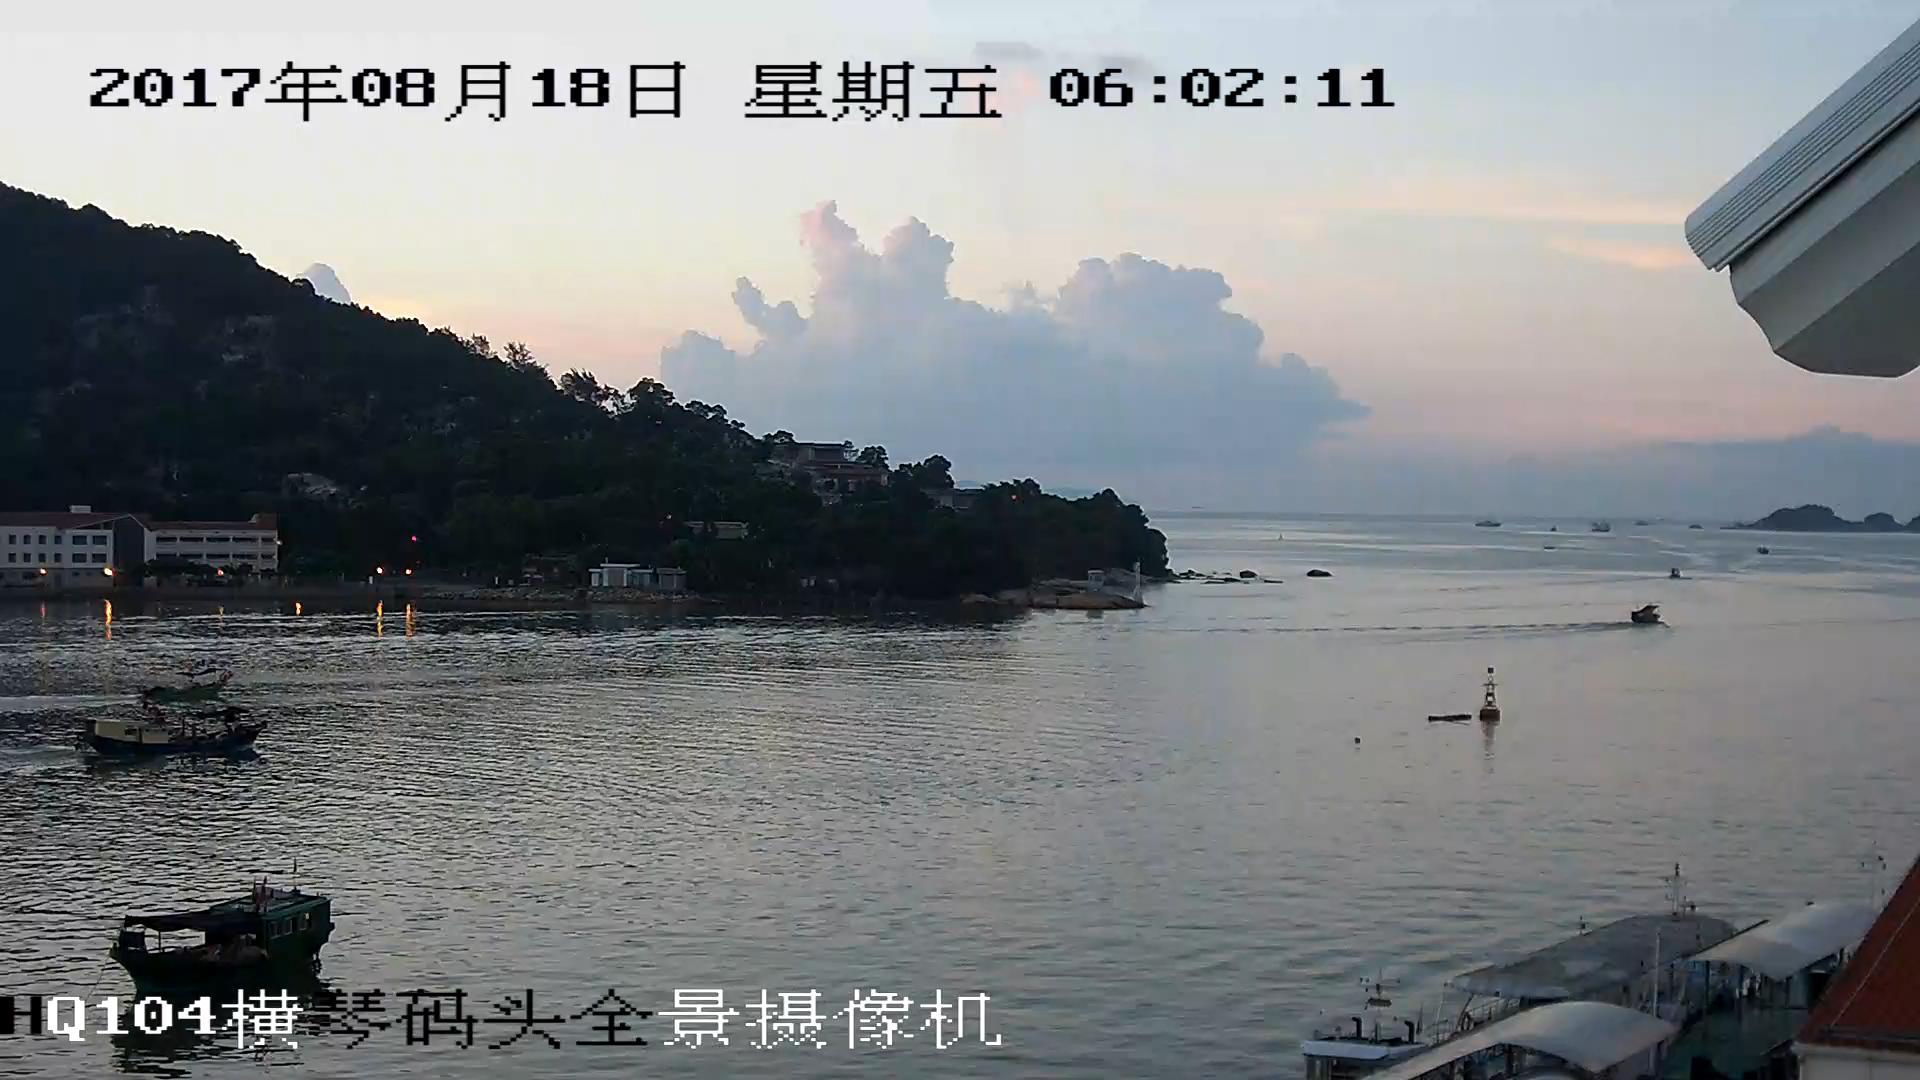fishing boat: (111, 895, 339, 976), (79, 688, 264, 756)
